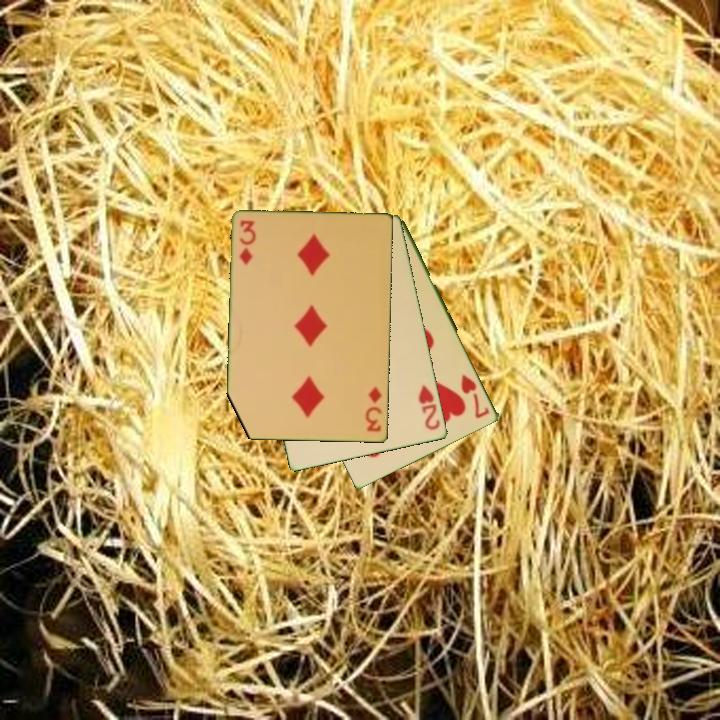2h: (415, 382, 443, 433)
3d: (362, 383, 385, 434), (236, 217, 257, 268)
7h: (458, 371, 493, 422)
